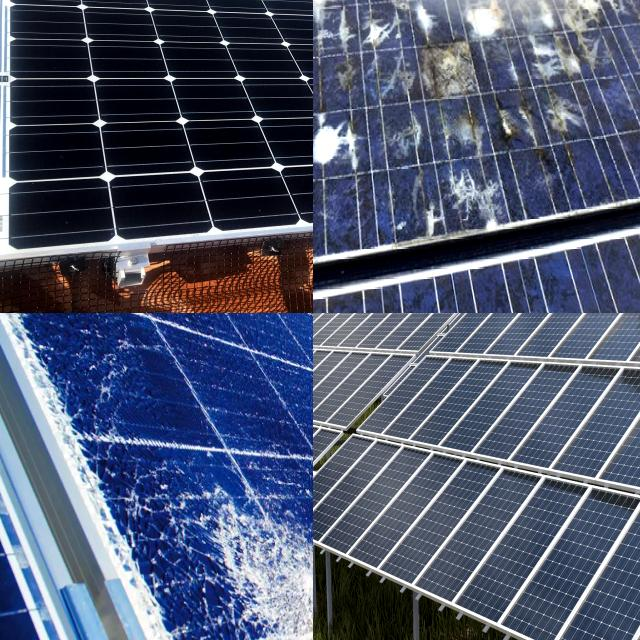crack: (2, 0, 313, 262), (0, 0, 313, 75), (0, 0, 313, 59), (495, 512, 629, 640), (1, 0, 302, 53), (514, 364, 590, 456), (18, 80, 121, 142), (568, 399, 640, 487), (598, 543, 640, 640)
hotspot: (202, 482, 313, 640), (518, 24, 610, 162), (313, 0, 640, 27), (405, 160, 505, 223), (414, 34, 481, 127), (313, 81, 352, 202)
